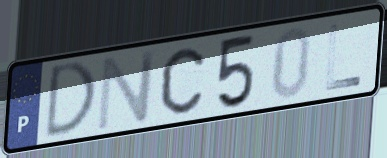0: (269, 24, 315, 102)
5: (213, 31, 259, 112)
C: (159, 45, 207, 116)
D: (42, 58, 100, 143)
L: (323, 21, 364, 94)
N: (94, 47, 159, 134)
